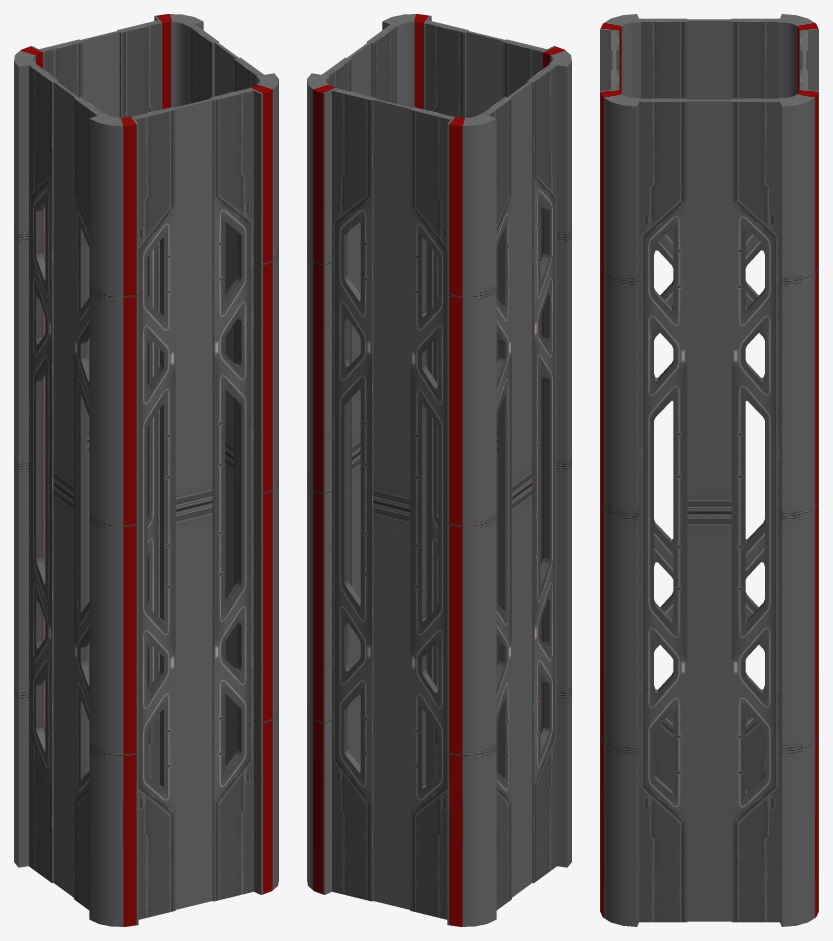
The model's file is quaternius-scifi-column-hollow.glb.
3 views of the same model, side by side, from view 1: azimuth 30°, elevation 25°; view 2: azimuth 150°, elevation 25°; view 3: azimuth 270°, elevation 25° (orthographic). The views are drawn at different scales.
Parts seen in each view (by area): view 1: Column_Hollow; view 2: Column_Hollow; view 3: Column_Hollow.
Boxes of the visible parts, <box> form: Column_Hollow: <box>14,14,278,926</box>; Column_Hollow: <box>307,14,571,926</box>; Column_Hollow: <box>600,14,818,926</box>.
Size of the model in its own units: 1.21 by 5 by 1.21.
Materials: 2 (2 with a texture image).
